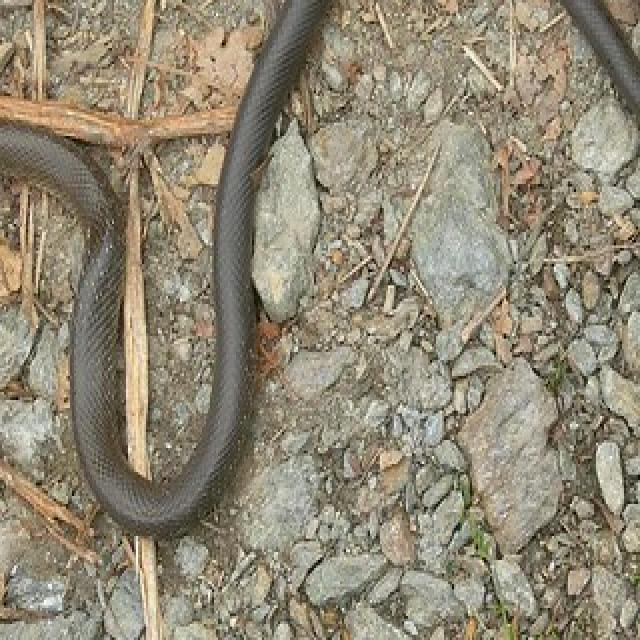Snake: (0, 0, 640, 539)
